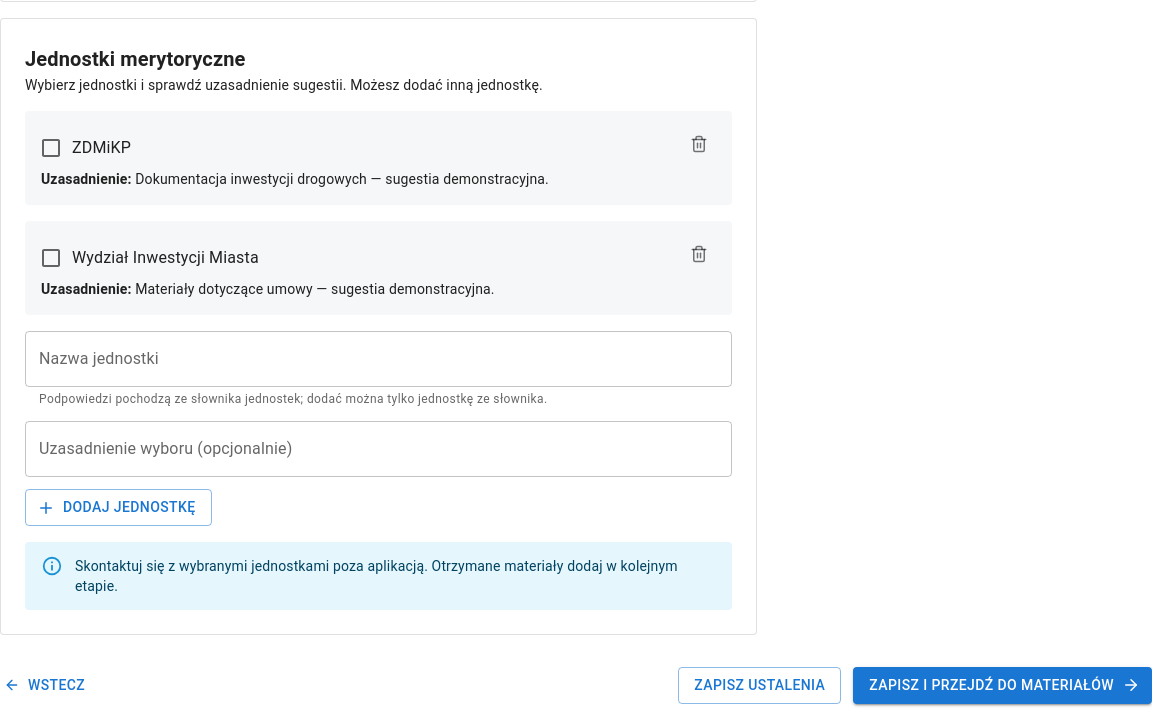
Test case: case analysis › requires a nonempty selected question and a selected department before continuing
This screenshot has width=1164, height=720.
(page scrolled)
Step 1. Click the button "Zapisz i przejdź do materiałów" → coordinates (1003, 685), box [853,667,1152,704]
(page scrolled)
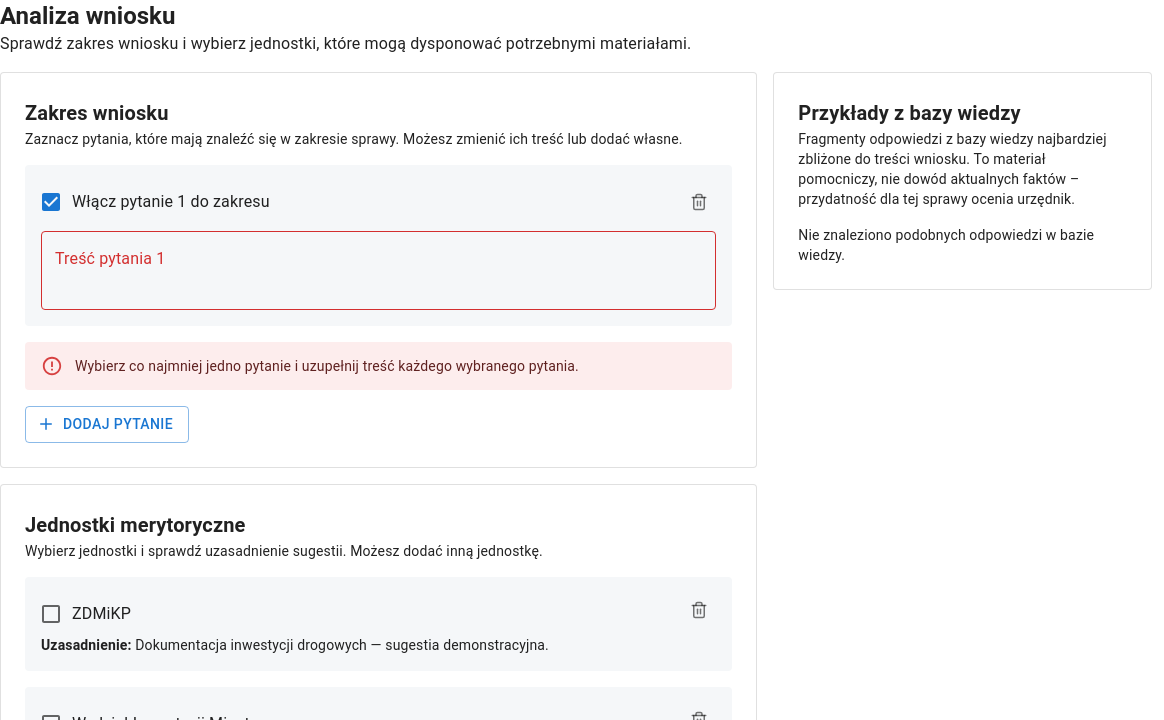
Expected: the text "Etap materiałów" is not shown
Expected: the text "Wybierz co najmniej jedno pytanie" is shown, [75,358,579,374]
Step 2. Type "Dokumenty" into the text box labelled "Treść pytania 1" → coordinates (379, 270), box [55,248,702,294]
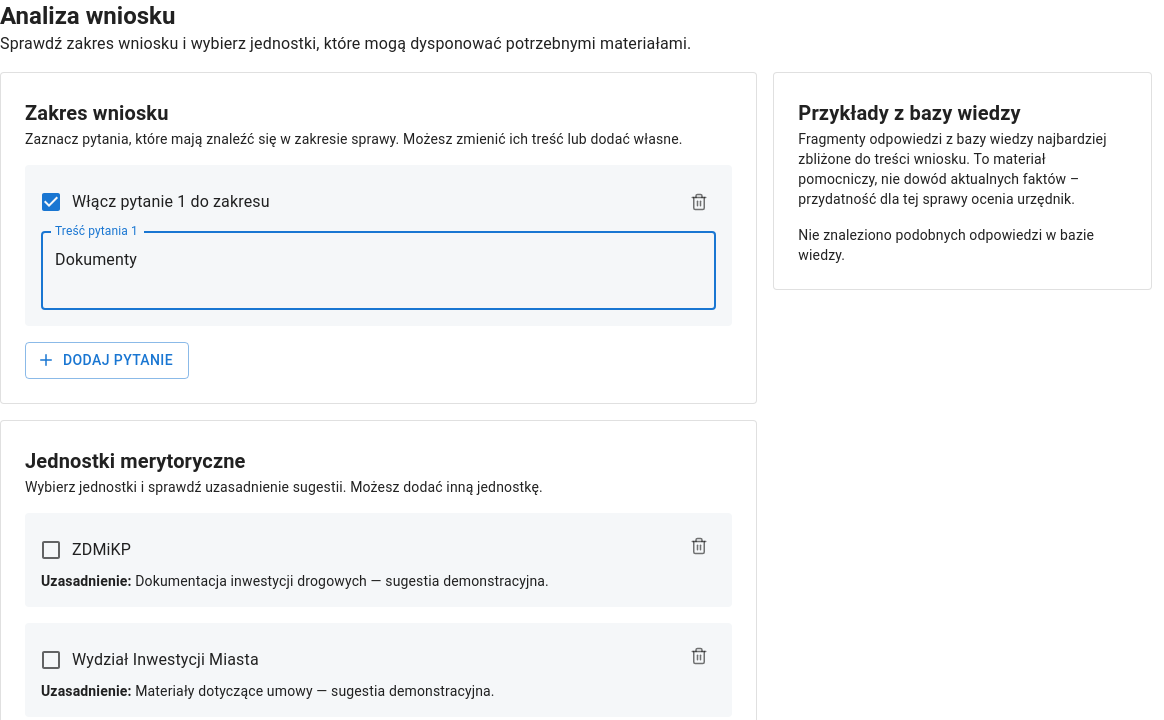
Step 3. Click the checkbox named "Wybierz jednostkę ZDMiKP" → coordinates (85, 550), box [39,538,131,562]
(page scrolled)
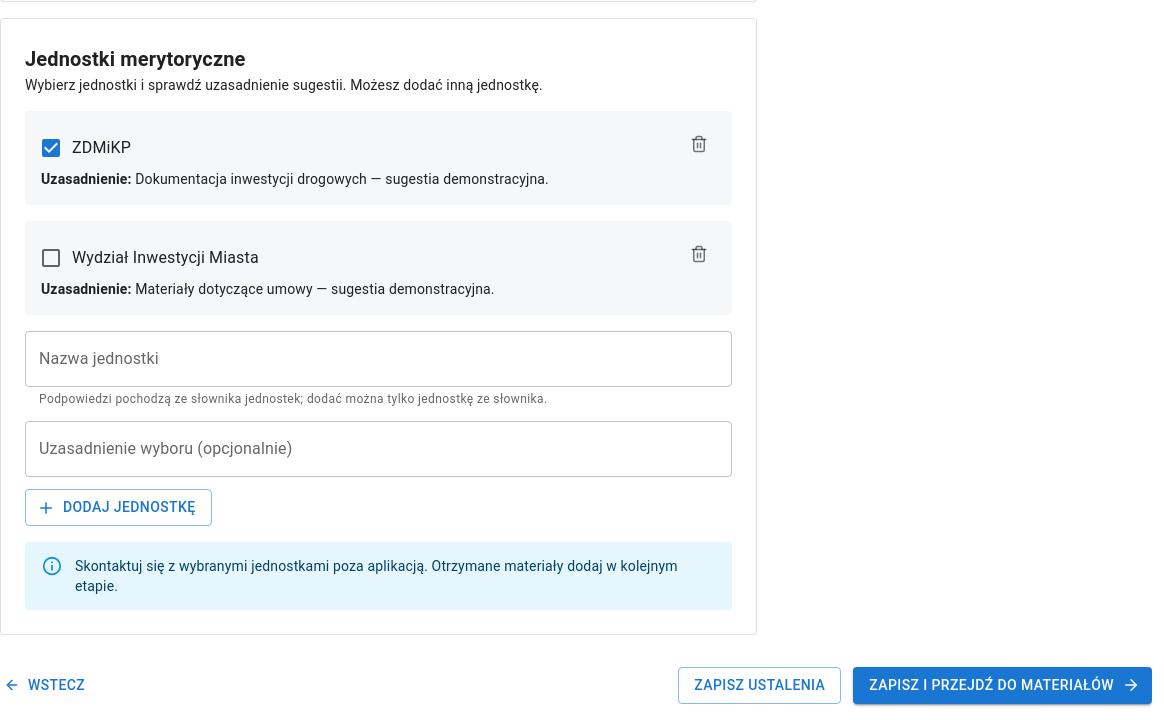
Step 4. Click the button "Zapisz i przejdź do materiałów" → coordinates (1003, 685), box [853,667,1152,704]
(page scrolled)
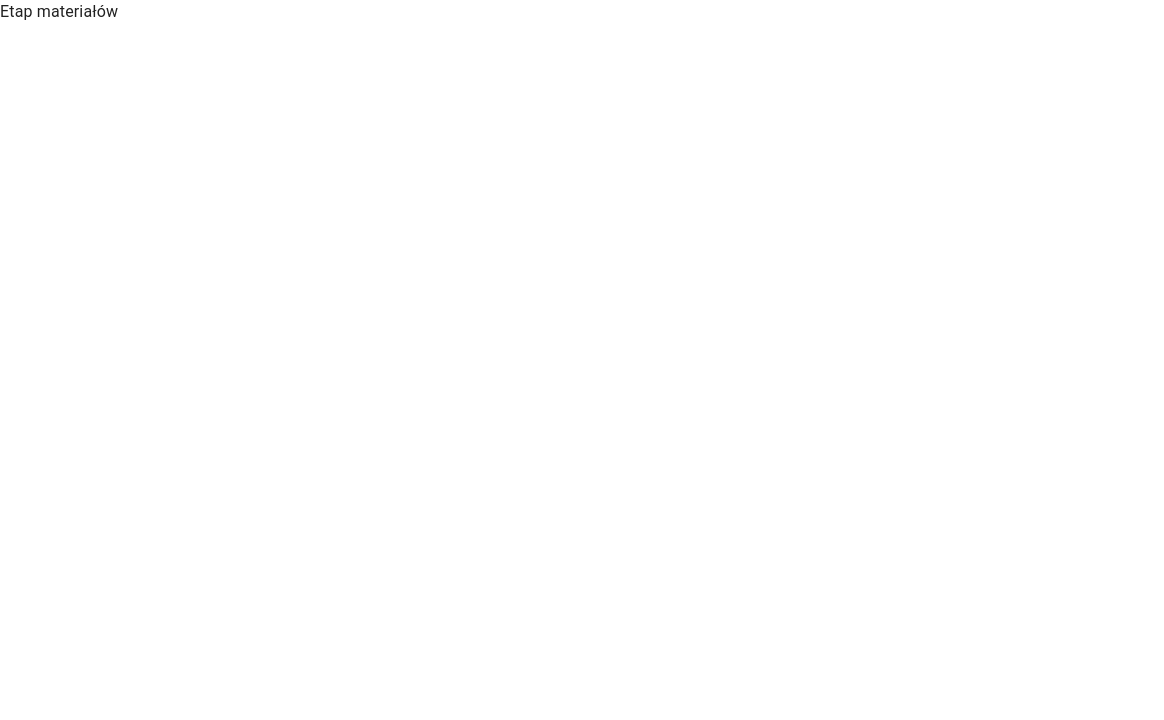
Expected: the text "Etap materiałów" is shown, [0,2,118,21]
